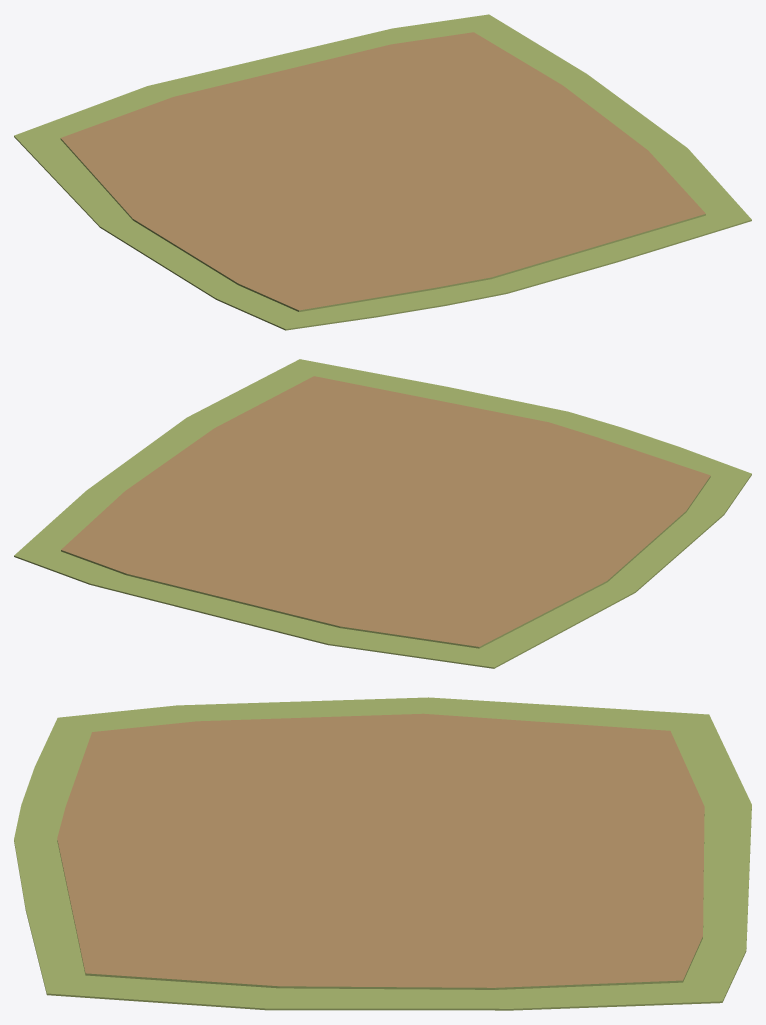
The model's file is work-field-bed.glb.
3 renders of one model, top to bottom at view 1: azimuth 30°, elevation 25°; view 2: azimuth 150°, elevation 25°; view 3: azimuth 270°, elevation 25°, orthographic. The views are drawn at different scales.
Parts seen in each view (by area): view 1: work-field-bed; view 2: work-field-bed; view 3: work-field-bed.
Part boxes in pixels (x1,y1,x2,y2): work-field-bed: (14, 14, 751, 330); work-field-bed: (14, 359, 751, 668); work-field-bed: (14, 697, 751, 1010).
Size of the model in its own units: 15.98 by 0.09 by 16.
1 material, 1 textured.
